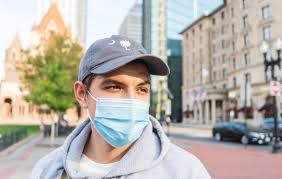with-mask: (77, 42, 163, 148)
